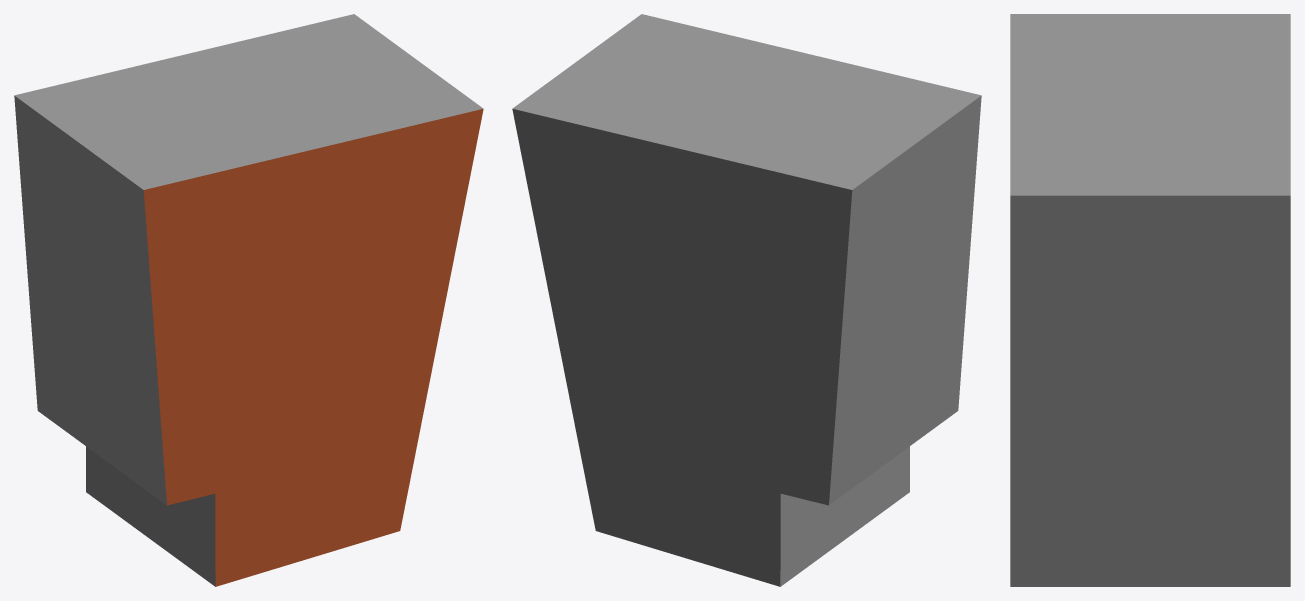
The model's file is construction_2937_assumed_A_Casa_h6m.obj.
The picture shows the model from 3 angles, left to right: view 1: azimuth 30°, elevation 25°; view 2: azimuth 150°, elevation 25°; view 3: azimuth 270°, elevation 25°; orthographic projection. The views are drawn at different scales.
Visible parts, largest first — view 1: construction_2937_assumed_A_Casa; view 2: construction_2937_assumed_A_Casa; view 3: construction_2937_assumed_A_Casa.
Part boxes in pixels (x1,y1,x2,y2): construction_2937_assumed_A_Casa: [14, 14, 483, 586]; construction_2937_assumed_A_Casa: [512, 14, 981, 586]; construction_2937_assumed_A_Casa: [1010, 14, 1290, 586].
Bounding box in the file's own units: 9.1 × 10.6 × 6.
